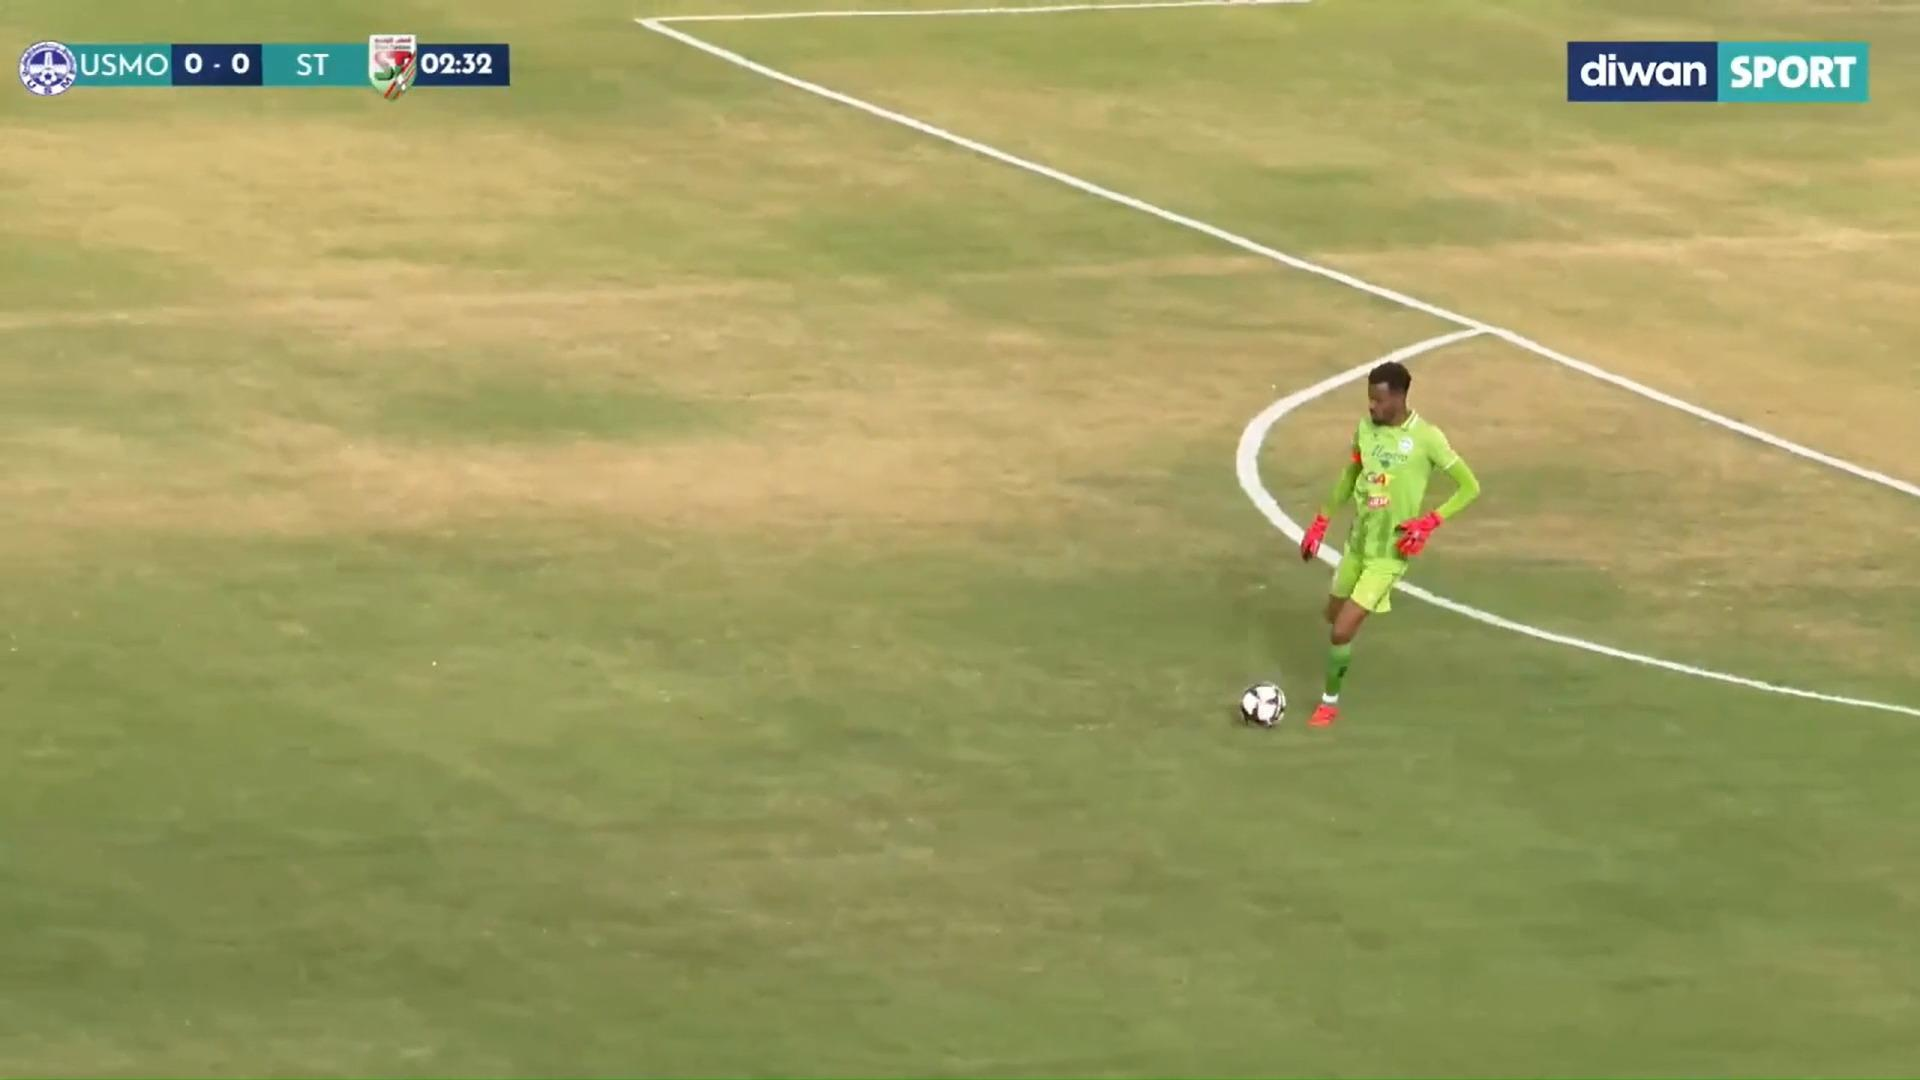ball: (1193, 637, 1315, 762)
goalkeeper: (1279, 331, 1505, 750)
